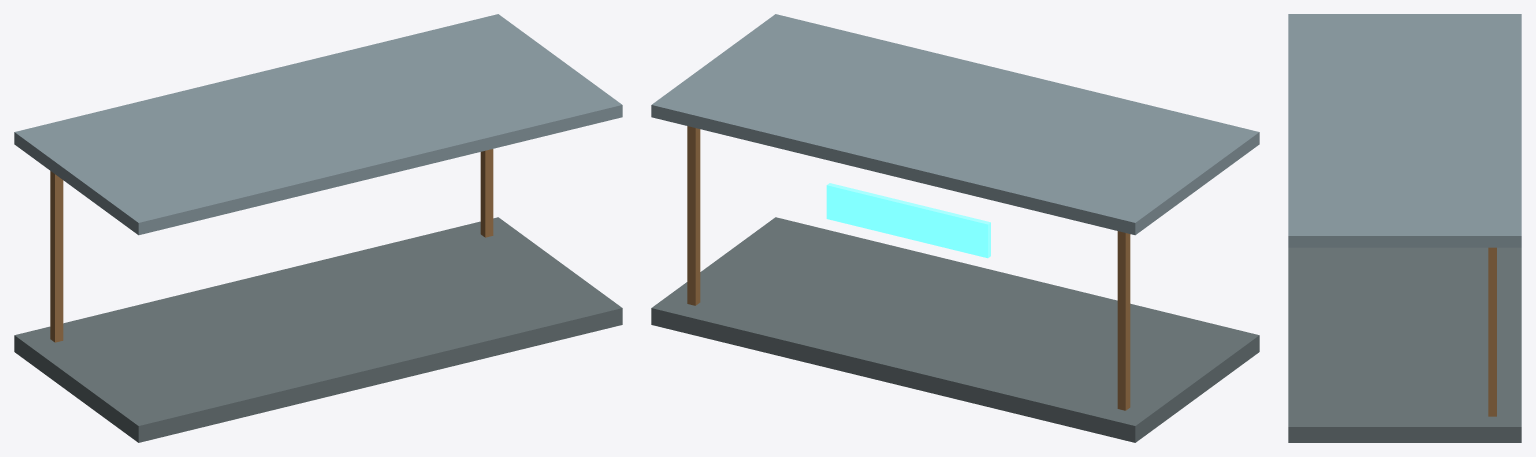
File: station.lod1.glb
3 renders of one model, left to right at view 1: azimuth 30°, elevation 25°; view 2: azimuth 150°, elevation 25°; view 3: azimuth 270°, elevation 25°, orthographic. The views are drawn at different scales.
Parts seen in each view (by area): view 1: structure; view 2: structure; view 3: structure.
Part boxes in pixels (<box>): structure: <box>14,14,622,442</box>; structure: <box>651,14,1259,442</box>; structure: <box>1288,14,1521,442</box>.
Bounding box in the file's own units: 9 × 3.91 × 4.
